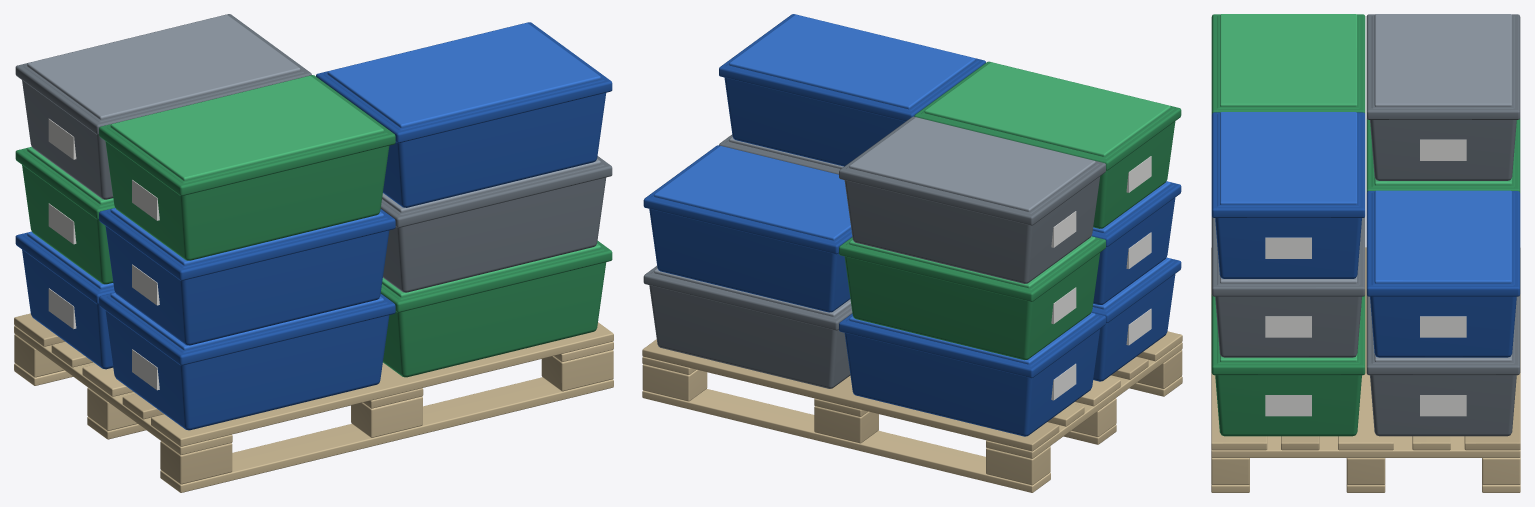
The model's file is pallet_b.glb.
3 views of the same model, side by side, from view 1: azimuth 30°, elevation 25°; view 2: azimuth 150°, elevation 25°; view 3: azimuth 270°, elevation 25° (orthographic). The views are drawn at different scales.
Visible parts, largest first — view 1: pallet_b; view 2: pallet_b; view 3: pallet_b.
Boxes of the visible parts, x1,y1,x2,y2 form: pallet_b: [14, 14, 613, 492]; pallet_b: [642, 14, 1182, 492]; pallet_b: [1211, 14, 1520, 492].
Size of the model in its own units: 1.2 by 0.82 by 0.8.
